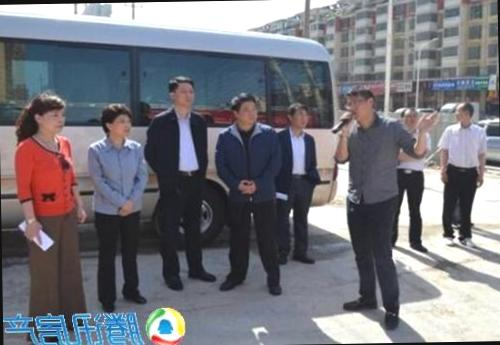no_helmet: (30, 92, 68, 139), (344, 82, 380, 130), (98, 100, 134, 143), (226, 89, 262, 130), (162, 74, 197, 114), (284, 101, 312, 132), (452, 98, 476, 127), (400, 103, 422, 133)
